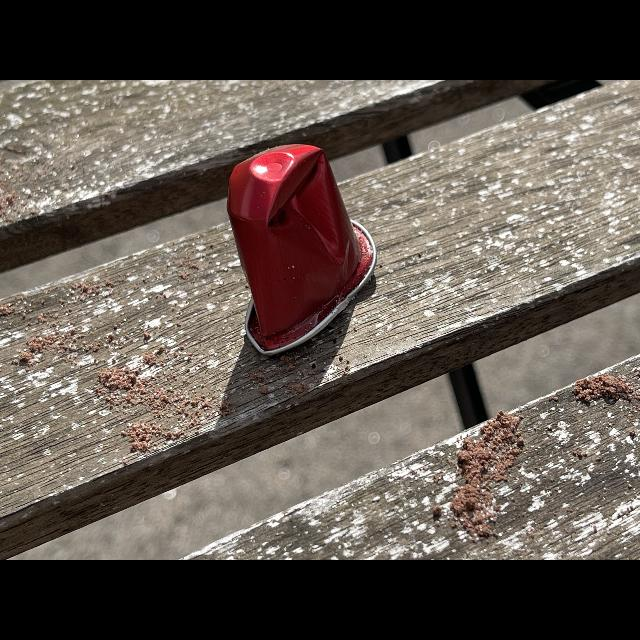damaged_capsule: (212, 128, 384, 366)
